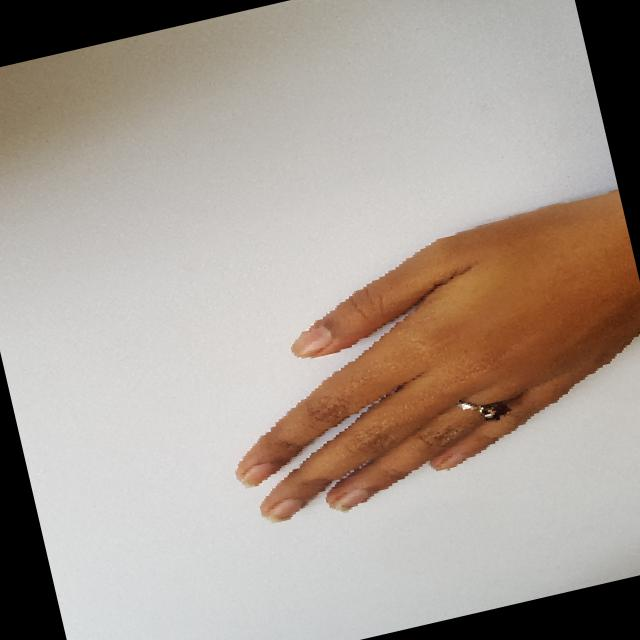Nail: (290, 324, 332, 356), (237, 460, 278, 486), (328, 487, 370, 510), (262, 497, 302, 521), (435, 448, 467, 470)
